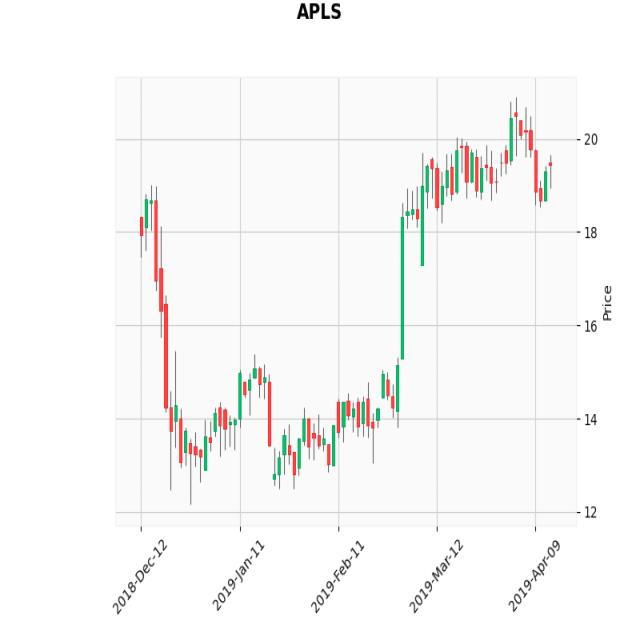Double-Bottom: (148, 178, 412, 488)
